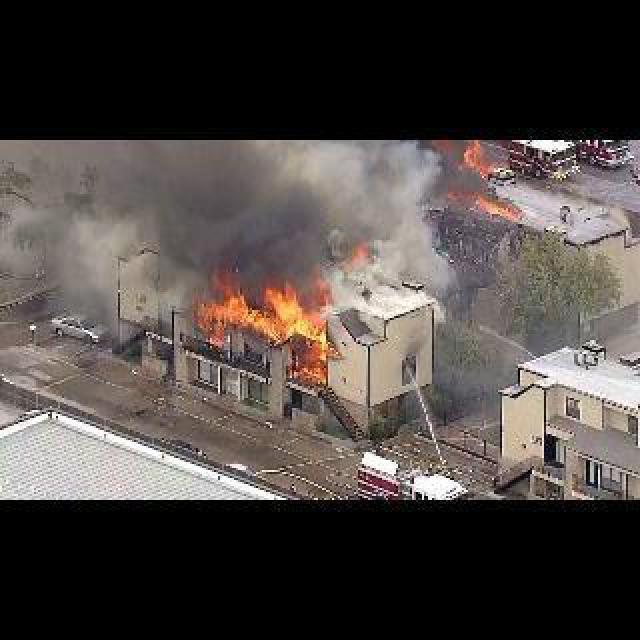Fire: (186, 288, 356, 390), (444, 148, 532, 220)
Smoke: (118, 142, 452, 290)
